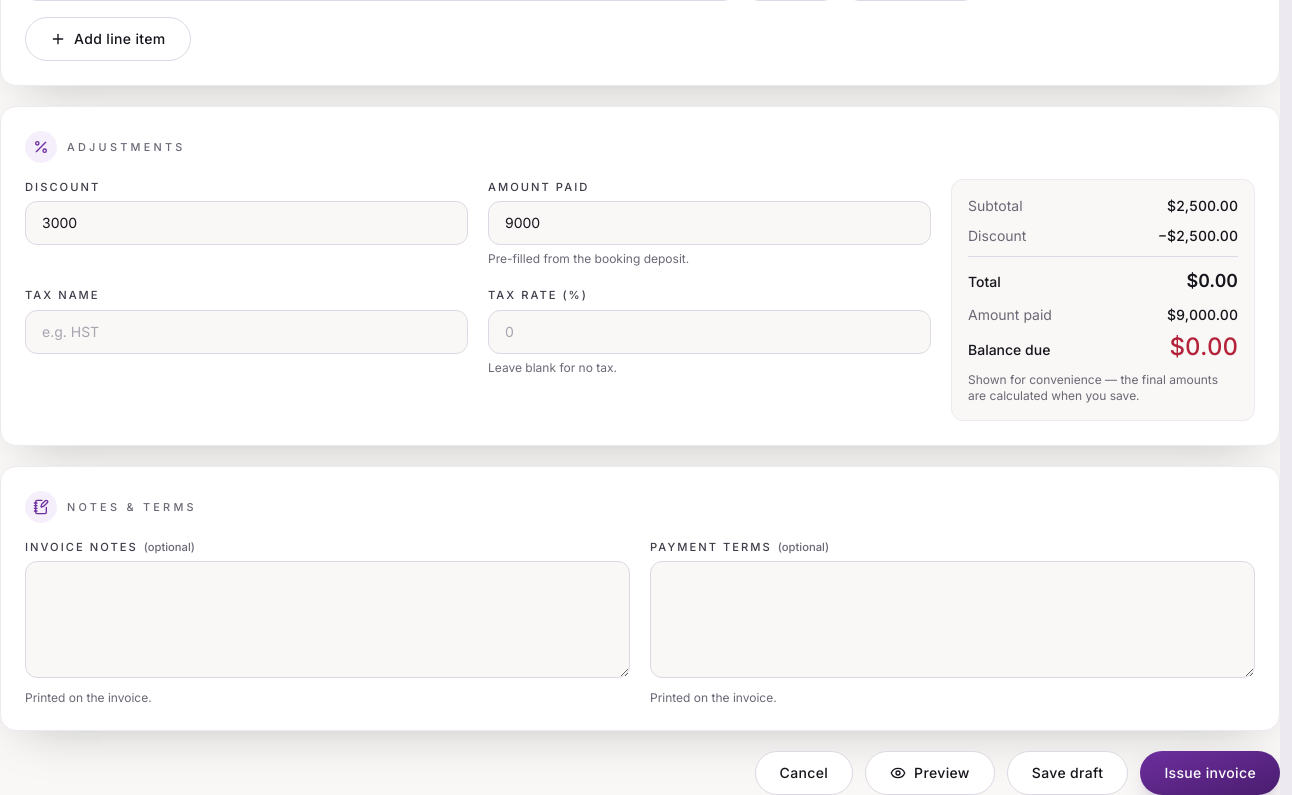
Scenario: InvoiceForm › rejects a discount above the subtotal and an overpayment
The image size is (1292, 795).
(page scrolled)
Click the button "Save draft" at (1068,774), box [1007,752,1128,794]
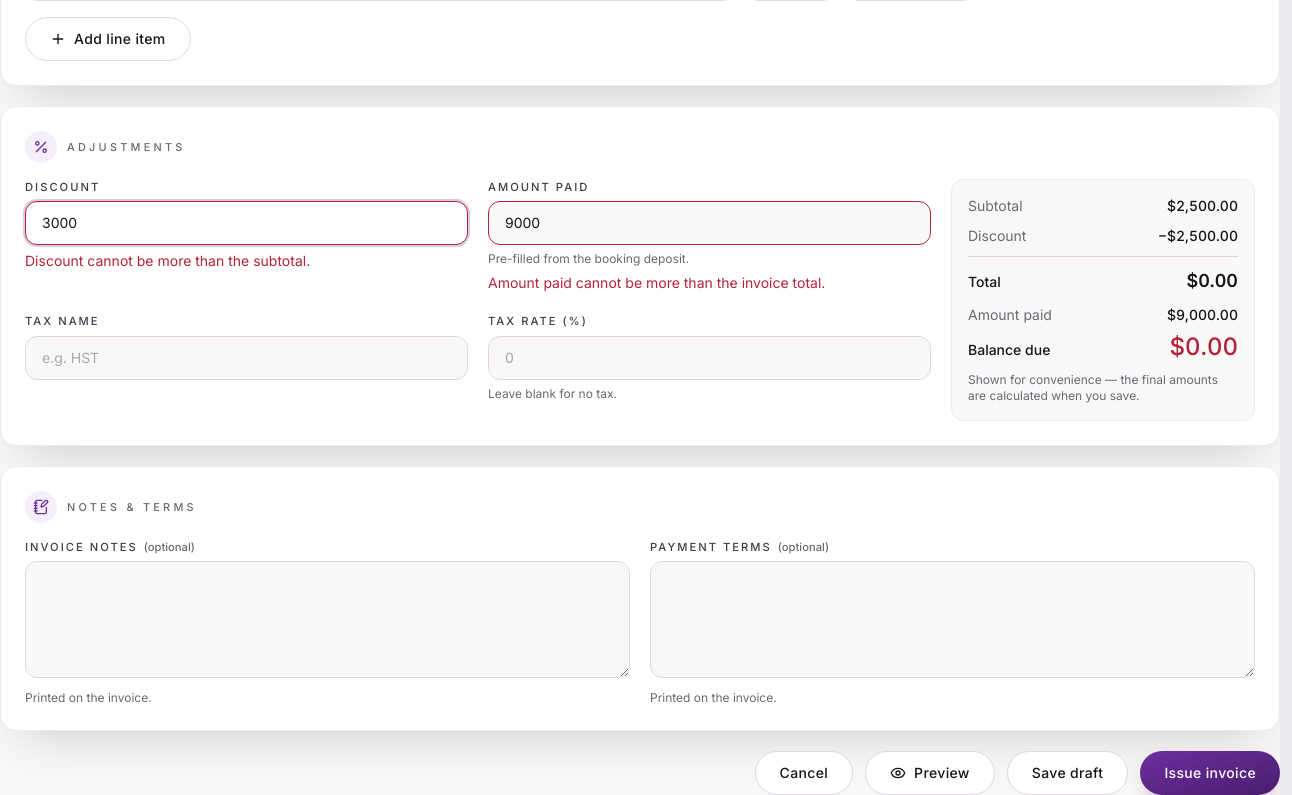
Result: the text "Discount cannot be more than the subtotal." is shown at [25,252,310,270]
Result: the text "Amount paid cannot be more than the invoice total." is shown at [488,274,825,292]
